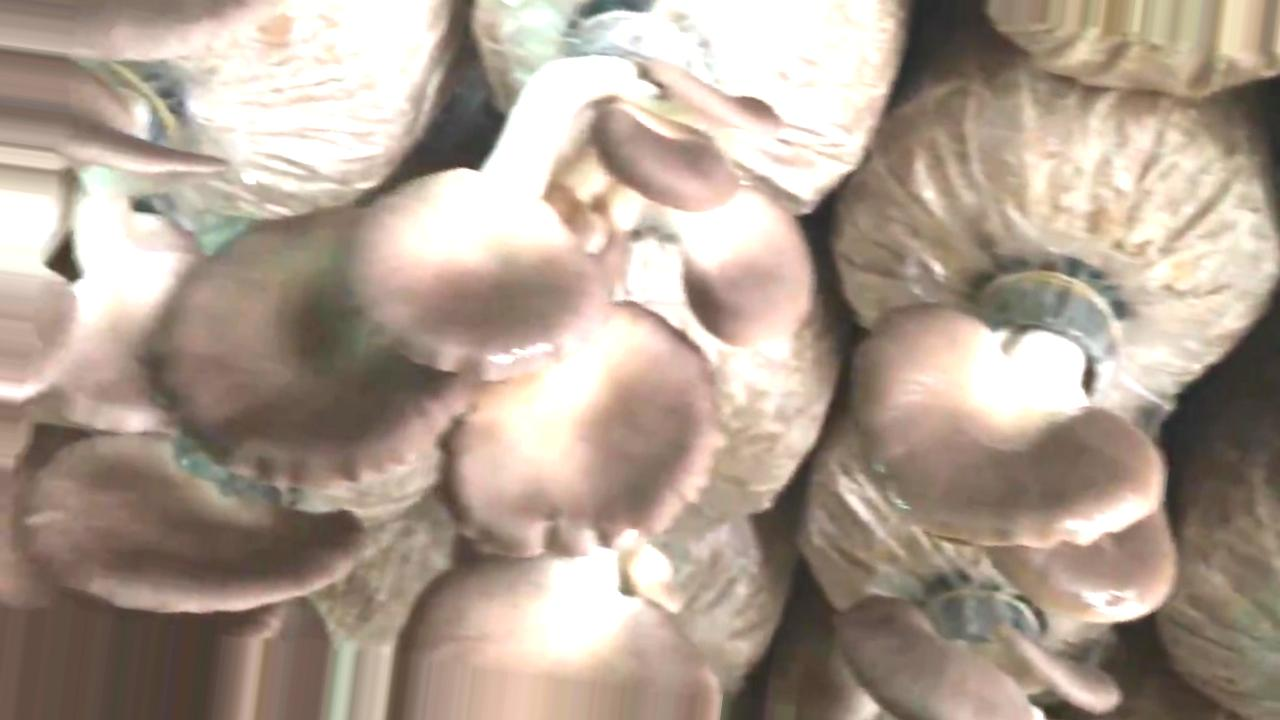nam: (146, 1, 861, 563), (848, 253, 1171, 549), (1, 48, 202, 438), (21, 438, 370, 618), (382, 550, 728, 720), (767, 592, 1119, 720), (1, 591, 334, 718), (985, 527, 1180, 632)
